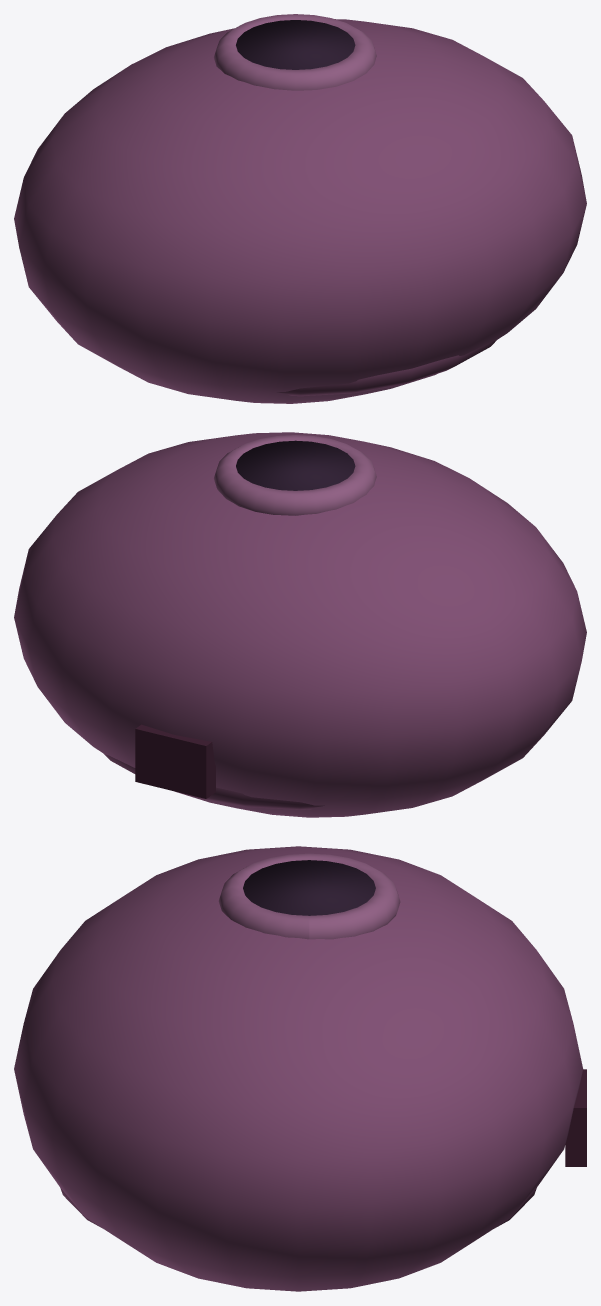
Rendered from b_hatchery.glb.
3 views of the same model, one above another, from view 1: azimuth 30°, elevation 25°; view 2: azimuth 150°, elevation 25°; view 3: azimuth 270°, elevation 25° (orthographic). The views are drawn at different scales.
Visible parts, largest first — view 1: ha_dome.001, ha_lip.001, ha_hole.001, ha_skirt.001; view 2: ha_dome.001, ha_lip.001, ha_hole.001, ha_door.001, ha_skirt.001; view 3: ha_dome.001, ha_lip.001, ha_hole.001, ha_door.001.
Part boxes in pixels (left/top/right/bottom): ha_dome.001: left=14, top=19, right=586, bottom=403; ha_lip.001: left=214, top=14, right=376, bottom=90; ha_hole.001: left=236, top=20, right=355, bottom=69; ha_skirt.001: left=277, top=340, right=496, bottom=396; ha_dome.001: left=14, top=432, right=586, bottom=817; ha_lip.001: left=214, top=435, right=376, bottom=515; ha_hole.001: left=236, top=440, right=355, bottom=490; ha_door.001: left=135, top=724, right=215, bottom=798; ha_skirt.001: left=104, top=754, right=324, bottom=809; ha_dome.001: left=14, top=846, right=582, bottom=1291; ha_lip.001: left=218, top=853, right=400, bottom=939; ha_hole.001: left=243, top=860, right=375, bottom=915; ha_door.001: left=565, top=1069, right=586, bottom=1166.
Bounding box in the file's own units: 3.04 × 1.82 × 2.64.
